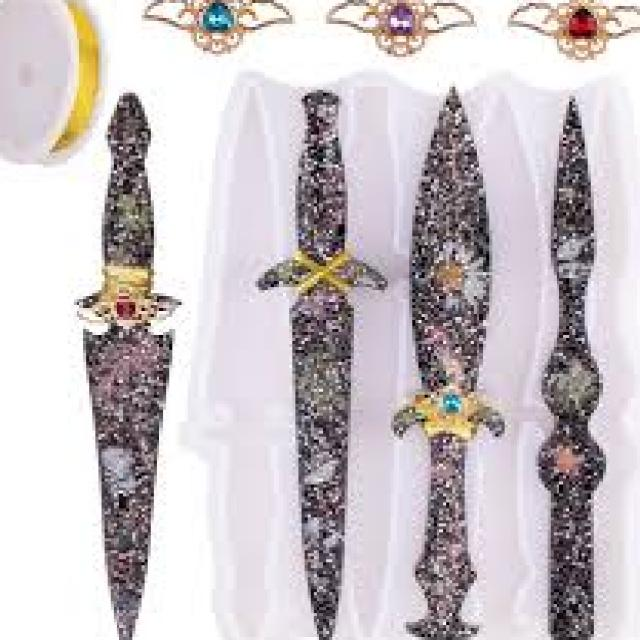Gun: (400, 75, 514, 640), (256, 99, 370, 640), (77, 99, 182, 640), (530, 93, 619, 640)
